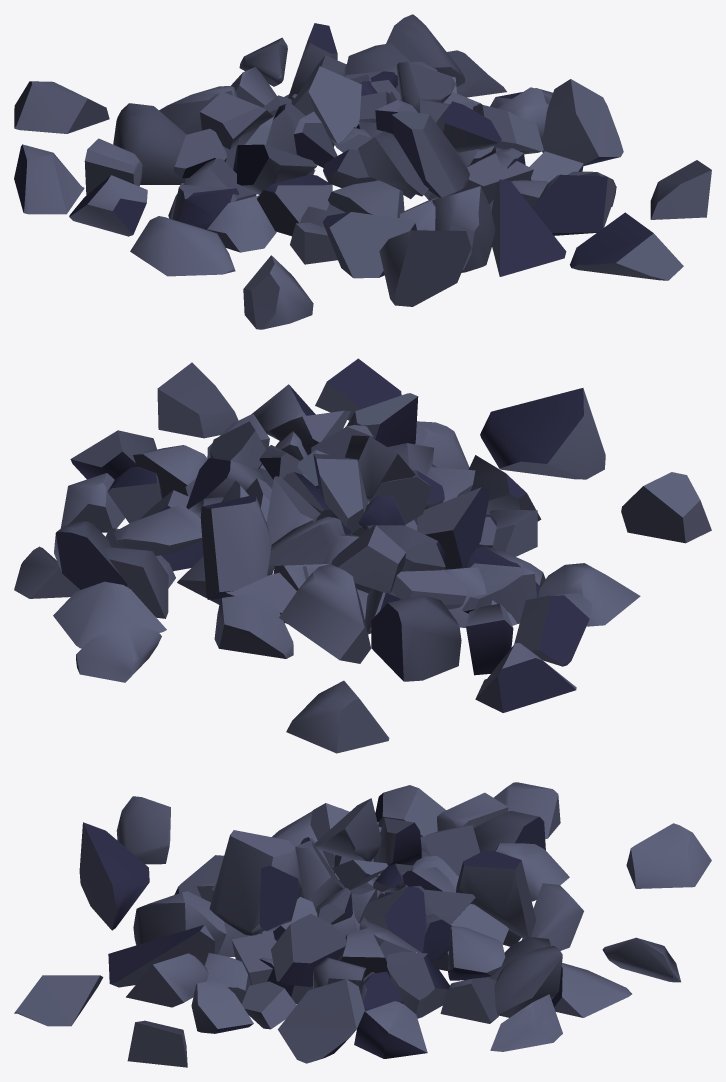
File: StoneB_LPC_Blue.fbx
The picture shows the model from 3 angles, top to bottom: view 1: azimuth 30°, elevation 25°; view 2: azimuth 150°, elevation 25°; view 3: azimuth 270°, elevation 25°; orthographic projection. The views are drawn at different scales.
Visible parts, largest first — view 1: StoneB_Blue; view 2: StoneB_Blue; view 3: StoneB_Blue.
Boxes of the visible parts, box(x1,y1,x2,y2) form: StoneB_Blue: box(14, 14, 711, 329); StoneB_Blue: box(14, 358, 711, 753); StoneB_Blue: box(14, 782, 711, 1067).
Bounding box in the file's own units: 116 × 27.23 × 132.
Materials: 1 (1 with a texture image).
